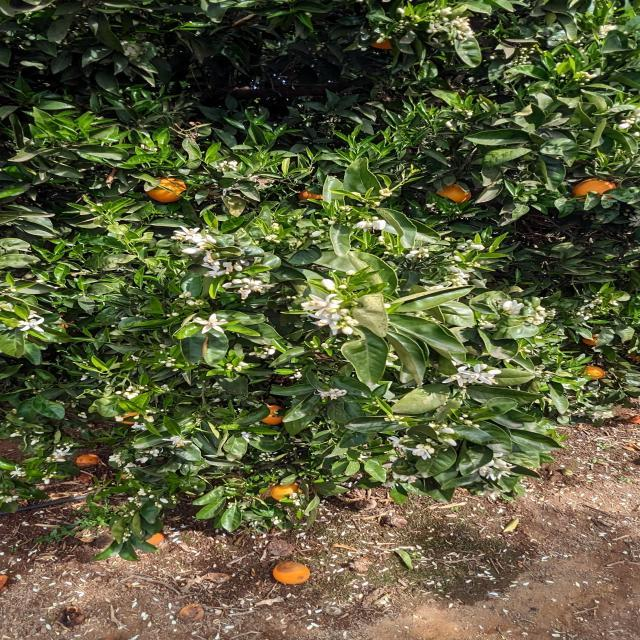Bunga: (302, 294, 341, 315), (306, 312, 340, 335), (194, 314, 228, 334), (460, 364, 494, 382), (441, 366, 469, 386), (242, 278, 276, 292), (470, 460, 495, 478), (174, 225, 199, 240), (18, 318, 44, 332), (404, 448, 432, 460), (502, 300, 524, 315), (161, 436, 192, 446), (190, 234, 212, 248), (484, 470, 512, 480), (201, 264, 220, 278), (352, 220, 373, 232), (454, 272, 470, 286), (327, 388, 347, 399), (388, 436, 405, 448), (52, 448, 72, 458), (371, 217, 386, 230), (322, 278, 337, 290), (416, 444, 434, 454), (402, 474, 424, 482), (526, 316, 544, 325), (248, 351, 268, 359), (384, 414, 404, 422), (226, 363, 243, 372), (479, 320, 494, 330), (314, 389, 332, 397), (242, 431, 254, 443), (440, 424, 454, 434), (459, 414, 473, 424), (237, 258, 254, 266), (344, 316, 359, 325), (378, 188, 393, 197), (131, 423, 146, 432), (185, 299, 204, 306), (181, 248, 203, 254), (263, 346, 277, 355), (418, 248, 430, 258), (290, 372, 303, 381), (426, 438, 439, 447), (178, 291, 192, 299), (229, 160, 239, 171), (224, 262, 233, 274), (124, 392, 139, 399), (217, 161, 227, 171), (448, 266, 462, 273), (341, 326, 353, 334), (470, 244, 486, 250), (444, 438, 456, 446), (214, 269, 227, 276), (312, 230, 325, 237), (406, 250, 418, 257), (135, 457, 149, 463), (30, 438, 40, 446), (496, 460, 506, 468), (264, 234, 277, 240), (488, 370, 501, 376), (518, 347, 531, 353), (232, 279, 244, 285), (233, 264, 242, 272), (10, 431, 22, 437), (584, 303, 596, 309), (584, 312, 593, 320), (270, 223, 280, 230), (478, 364, 488, 371), (162, 384, 172, 391), (78, 412, 88, 419), (223, 282, 234, 288), (150, 449, 158, 457), (346, 270, 356, 276), (320, 342, 330, 348), (144, 416, 154, 422), (145, 409, 157, 414), (546, 308, 556, 314), (592, 298, 602, 304), (610, 300, 620, 306), (310, 341, 318, 348), (108, 454, 122, 458), (340, 308, 349, 314), (338, 284, 347, 290), (115, 416, 124, 422), (208, 239, 218, 244), (126, 386, 136, 391), (116, 459, 126, 464), (388, 353, 398, 358), (454, 256, 462, 262), (386, 360, 394, 366), (534, 307, 546, 311), (404, 434, 411, 440), (238, 362, 248, 366), (429, 423, 437, 428), (260, 452, 270, 456), (134, 414, 140, 420), (159, 344, 168, 348), (168, 357, 175, 362), (166, 362, 173, 367), (434, 431, 441, 436), (80, 376, 88, 380), (472, 424, 480, 428), (160, 409, 170, 412), (34, 431, 44, 434), (115, 390, 122, 394), (108, 458, 122, 460), (173, 312, 179, 316), (576, 312, 582, 316), (580, 310, 586, 314), (163, 328, 168, 332), (580, 306, 585, 310), (134, 390, 140, 393), (138, 386, 144, 389), (18, 417, 24, 420), (267, 458, 275, 460), (64, 446, 70, 448), (68, 445, 74, 447), (262, 457, 266, 460)
Jeruk Sudah Matang: (146, 178, 187, 202), (572, 178, 614, 201), (437, 184, 470, 202), (272, 484, 300, 502), (261, 405, 285, 425), (583, 366, 606, 380), (300, 188, 322, 202), (369, 40, 396, 50), (148, 532, 164, 546), (121, 412, 137, 424), (585, 334, 601, 344)
